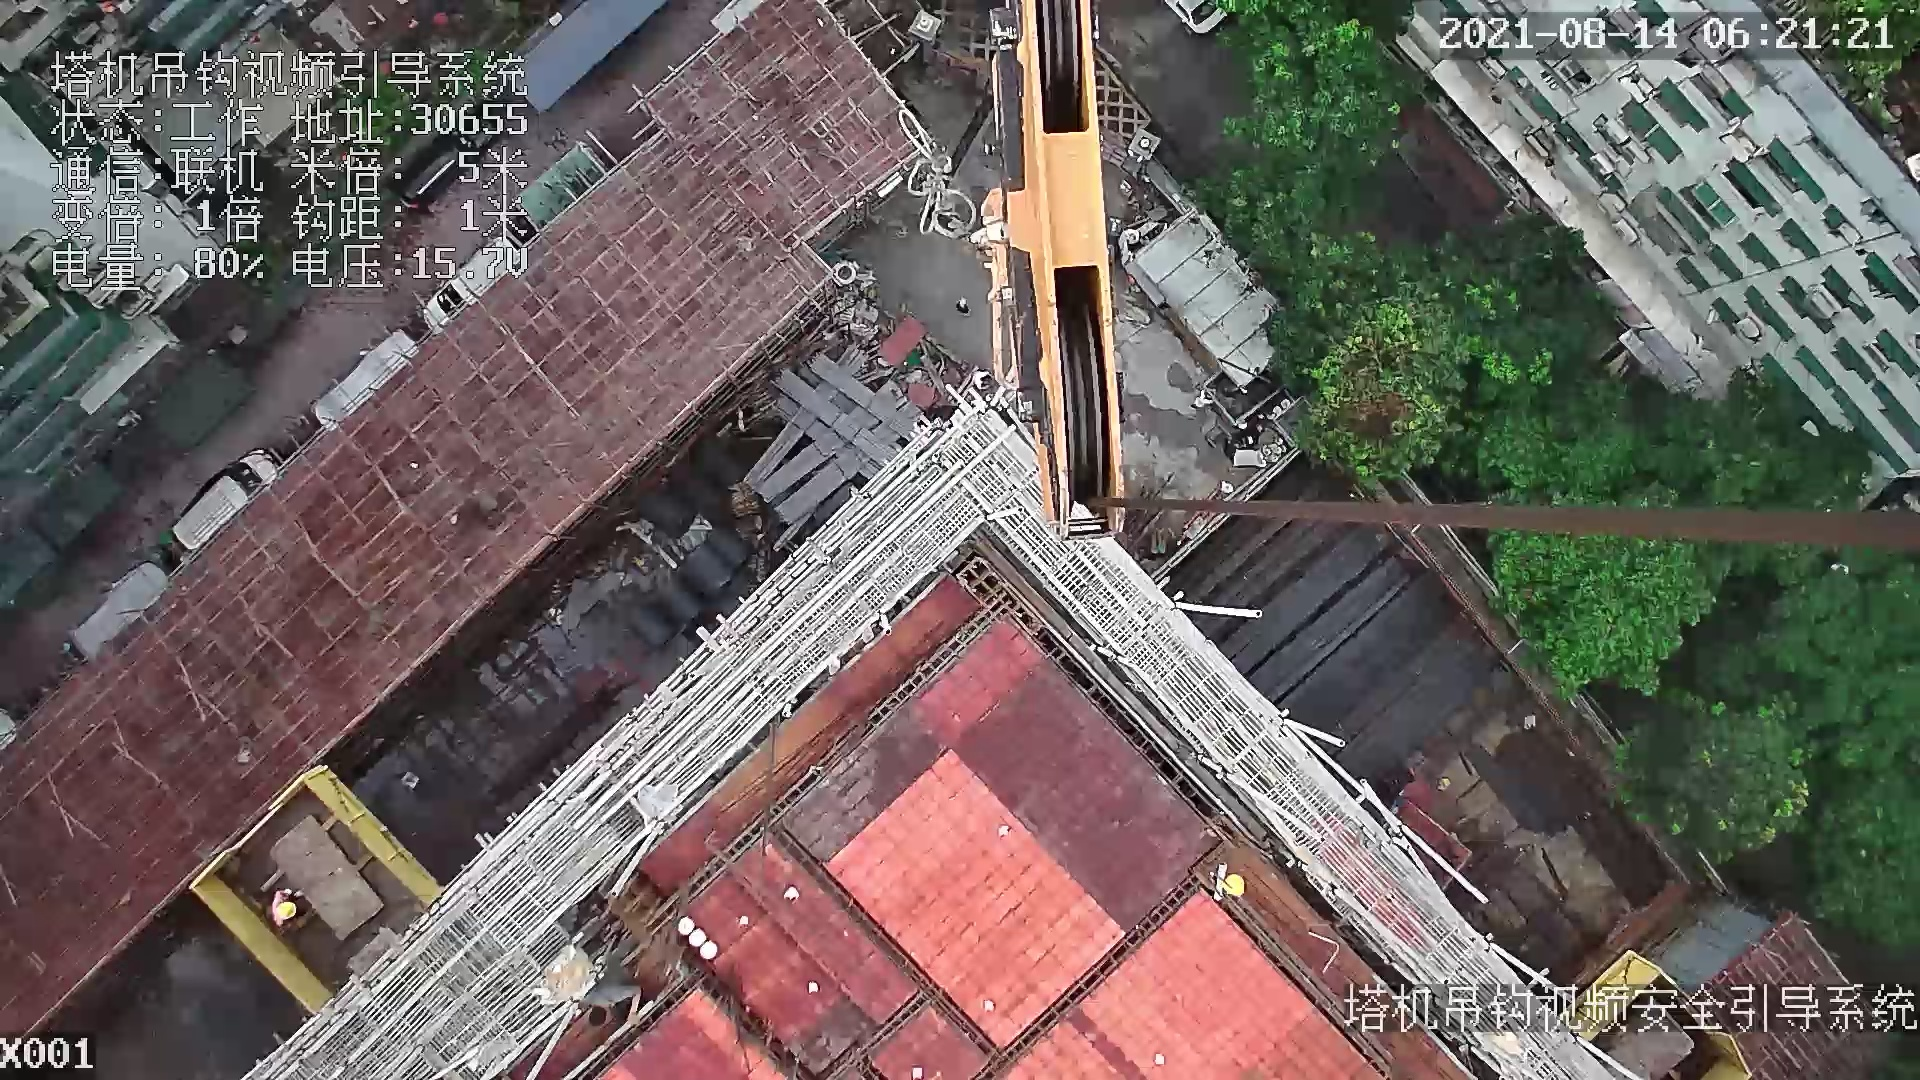helmet: (1219, 871, 1248, 898), (277, 902, 298, 921)
hook: (958, 1, 1124, 541)
person: (265, 890, 318, 927)
rebar: (1210, 478, 1448, 747)
